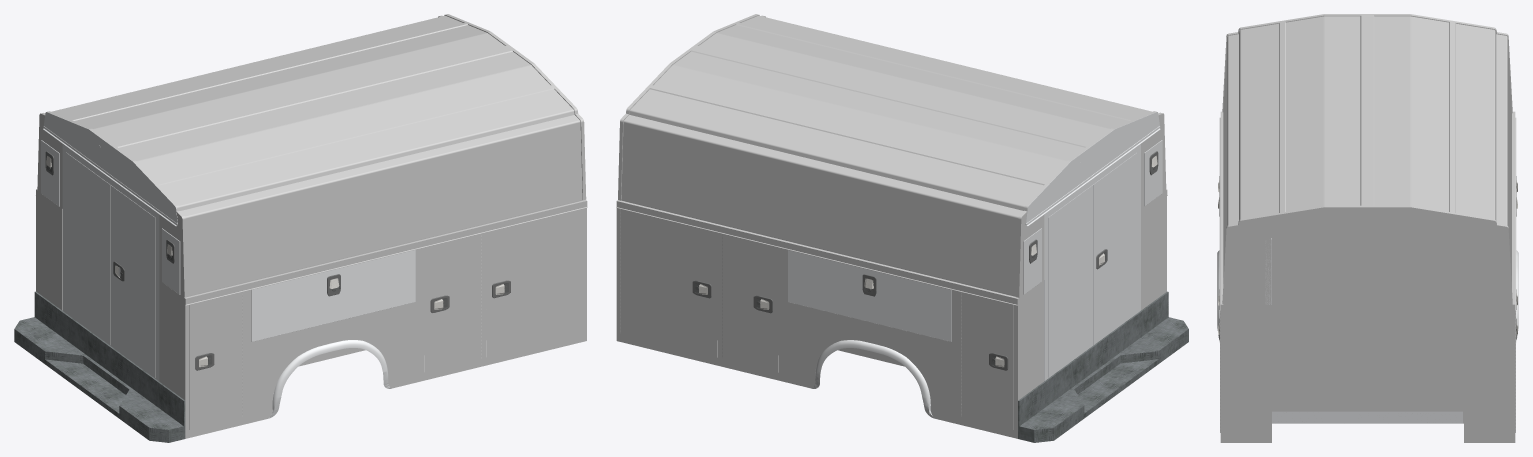
Rendered from Chev express 3500 - KUV129SU.glb.
3 renders of one model, left to right at view 1: azimuth 30°, elevation 25°; view 2: azimuth 150°, elevation 25°; view 3: azimuth 270°, elevation 25°, orthographic.
Visible parts, largest first — view 1: Geom3D_ (×21), Geom3D; view 2: Geom3D_ (×9), Geom3D (×3); view 3: Geom3D_ (×6), Geom3D.
Part boxes in pixels (bbox=[...]): Geom3D_ (×21): bbox=[14, 14, 587, 442]; Geom3D: bbox=[36, 189, 62, 310]; Geom3D_ (×9): bbox=[618, 14, 1188, 442]; Geom3D (×3): bbox=[616, 200, 1043, 438]; Geom3D_ (×6): bbox=[1219, 14, 1512, 442]; Geom3D: bbox=[1464, 111, 1516, 442].
Bounding box in the file's own units: 3.52 × 1.87 × 2.17.
Materials: 8 (2 with a texture image).
